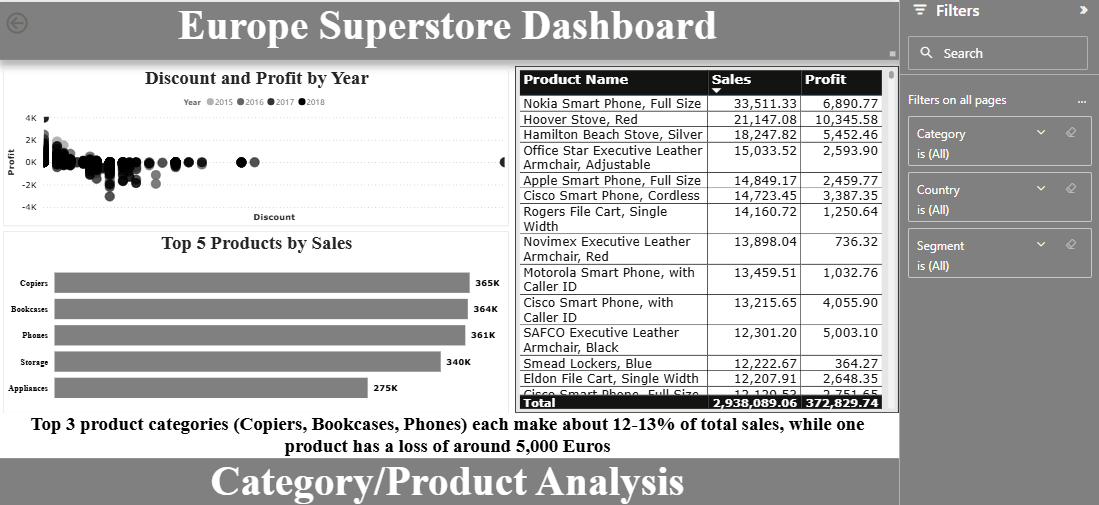

The dashboard page shown, as its layout file describes it:
{"tool":"powerbi","page":{"name":"Catergory/Product Analysis","canvas":[1280,720],"ordinal":1},"visuals":[{"type":"textbox","title":"Europe Superstore Dashboard","box":[0,0,1280,82.3],"z":0},{"type":"textbox","title":"Catergory/Product Analysis","box":[0,646.7,1280,73.9],"z":1000},{"type":"clusteredBarChart","title":"Top 5 Products by Sales","fields":{"Y":["Sum(Orders.Sales)"],"Category":["Orders.Sub-Category"]},"box":[10.1,324.2,717.3,258.7],"z":2000},{"type":"actionButton","box":[10,10,100,40],"z":3000},{"type":"tableEx","fields":{"Values":["Orders.Product Name","Sum(Orders.Sales)","Sum(Orders.Profit)"]},"box":[735.7,90.7,544.3,492.2],"z":4000},{"type":"scatterChart","title":"Discount and Profit by Year","fields":{"Y":["Orders.Profit"],"Series":["Orders.Year"],"X":["Orders.Discount"]},"box":[10.1,90.7,717.3,226.8],"z":5000},{"type":"textbox","title":"Top 3 product categories (Copiers, Bookcases, Phones) each make about 12-13% of total sales, while one product has a loss of around 5,000 Euros","box":[0,582.9,1280,63.8],"z":5001}]}

Visuals, with their boxes on the page's 1280x720 design canvas (x1, y1, x2, y2). These are canvas units, not pixel positions in the 1099x505 screenshot, which may show the page scaled, cropped or inside an application window:
"Europe Superstore Dashboard" textbox: <bbox>0, 0, 1280, 82</bbox>
"Catergory/Product Analysis" textbox: <bbox>0, 647, 1280, 721</bbox>
"Top 5 Products by Sales" clusteredBarChart: <bbox>10, 324, 727, 583</bbox>
actionButton: <bbox>10, 10, 110, 50</bbox>
tableEx - Orders.Product Name x Sum(Orders.Sales): <bbox>736, 91, 1280, 583</bbox>
"Discount and Profit by Year" scatterChart: <bbox>10, 91, 727, 318</bbox>
"Top 3 product categories (Copiers, Bookcases, Phones) each make about 12-13% of total sales, while one product has a loss of around 5,000 Euros" textbox: <bbox>0, 583, 1280, 647</bbox>
